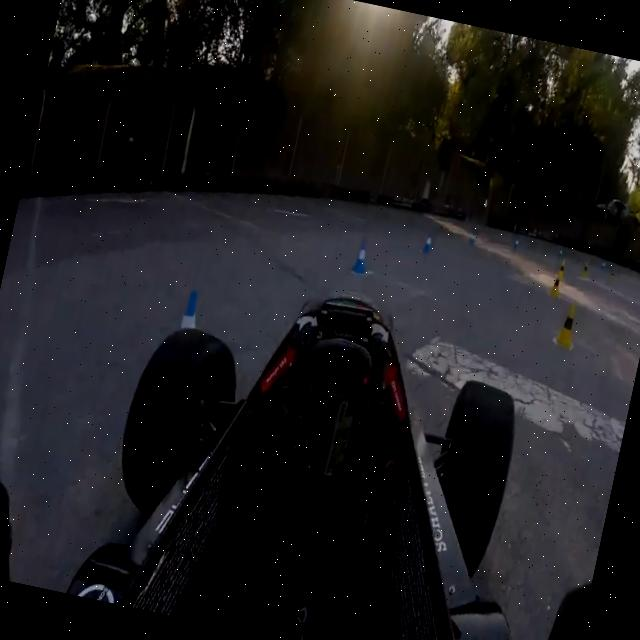blue_cone: (350, 234, 376, 280), (422, 233, 434, 256)
yellow_cone: (551, 299, 582, 352), (548, 272, 566, 302)
